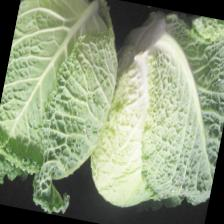cabbage: (80, 0, 224, 223), (0, 0, 131, 220)
